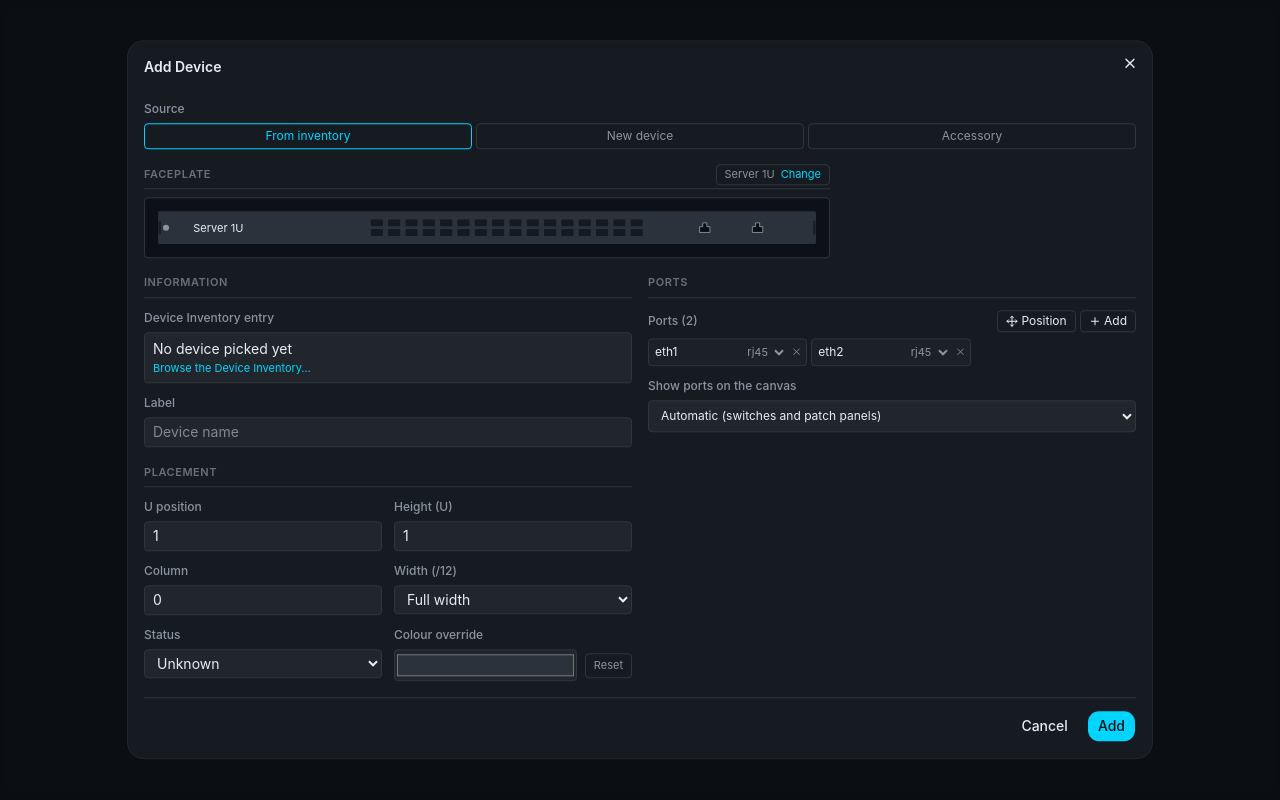
it: RackDeviceModal — adding › names the picked entry without repeating the IP
Click the button with aria-label "Device Inventory entry" at (223, 349), box [144,332,632,384]
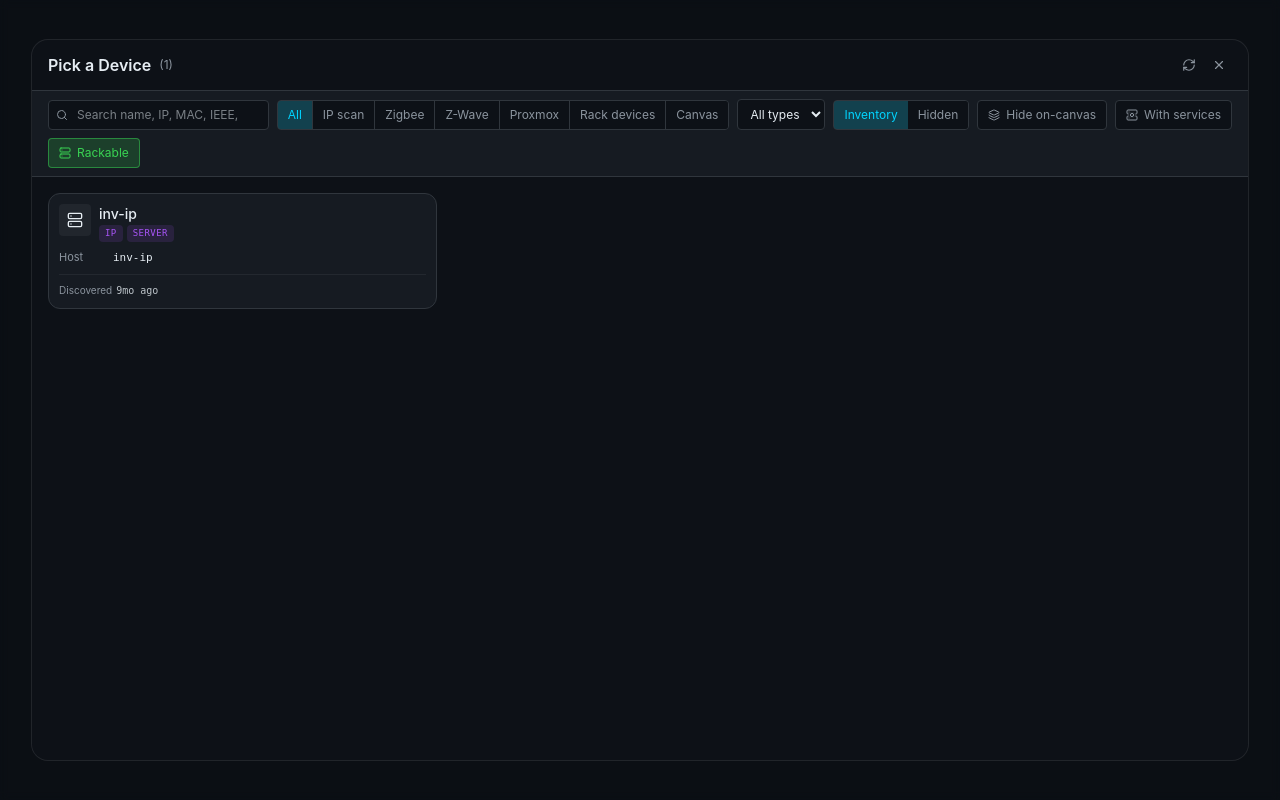
Click the button "inv-ip IP server Host inv-ip Discovered 9mo ago" at (75, 220), box [48,193,437,309]
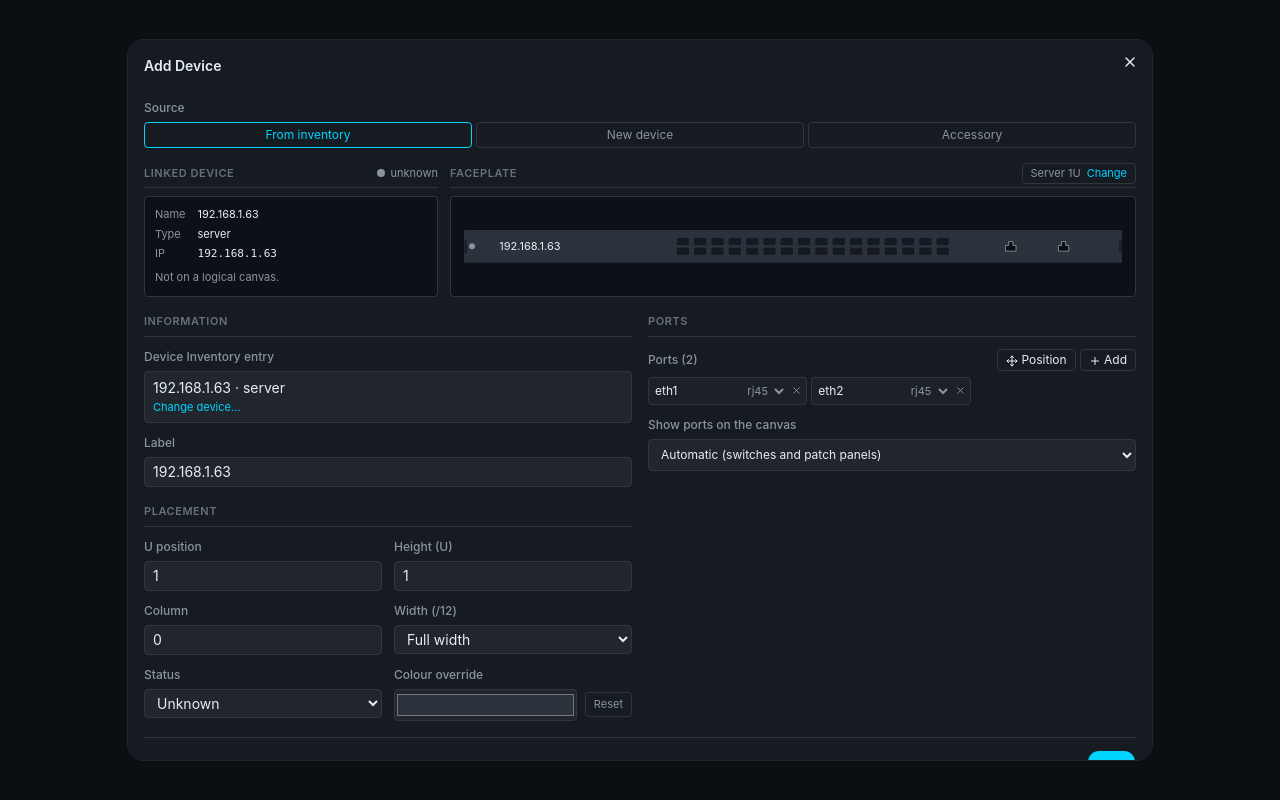
Expected: the button with aria-label "Device Inventory entry" does not show "192.168.1.63 · 192.168.1.63", [144,371,632,422]
Expected: the button with aria-label "Device Inventory entry" shows "192.168.1.63 · server", [144,371,632,422]
